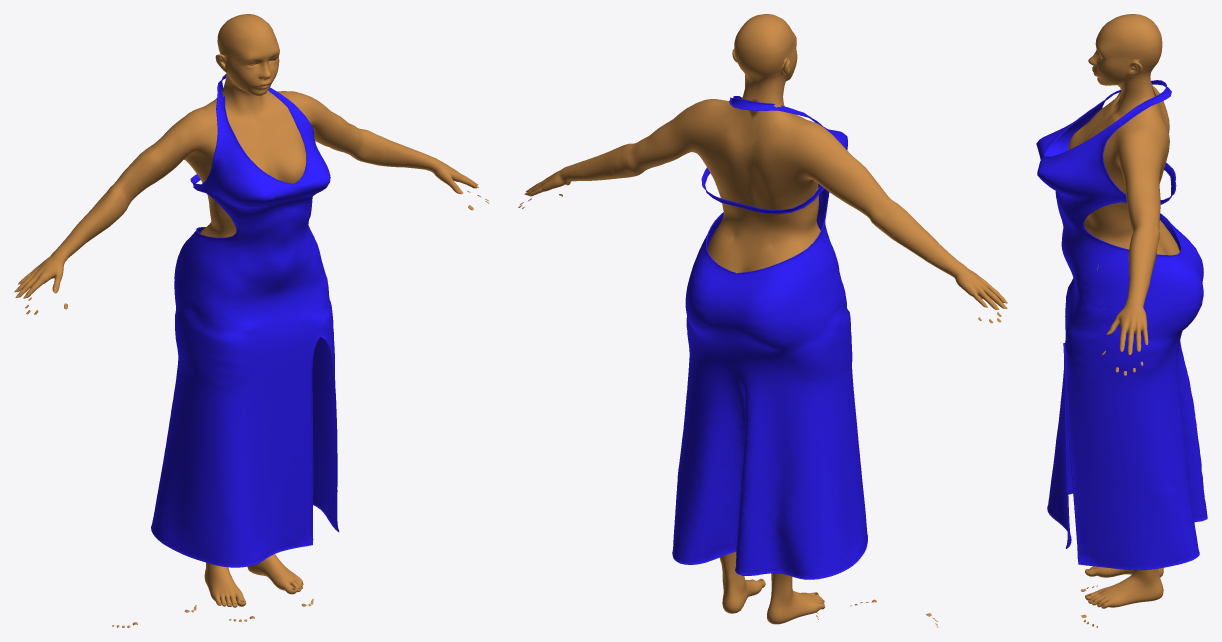
The model's file is dress9.glb.
The picture shows the model from 3 angles, left to right: view 1: azimuth 30°, elevation 25°; view 2: azimuth 150°, elevation 25°; view 3: azimuth 270°, elevation 25°; orthographic projection. The views are drawn at different scales.
Visible parts, largest first — view 1: EveningDress, Body.003; view 2: EveningDress, Body.003; view 3: EveningDress, Body.003.
Boxes of the visible parts, <box> form: EveningDress: <box>151,74,339,567</box>; Body.003: <box>17,14,478,607</box>; EveningDress: <box>672,96,867,579</box>; Body.003: <box>526,14,1005,624</box>; EveningDress: <box>1036,80,1207,570</box>; Body.003: <box>1068,14,1179,608</box>.
Size of the model in its own units: 1.61 by 1.9 by 0.5023.
